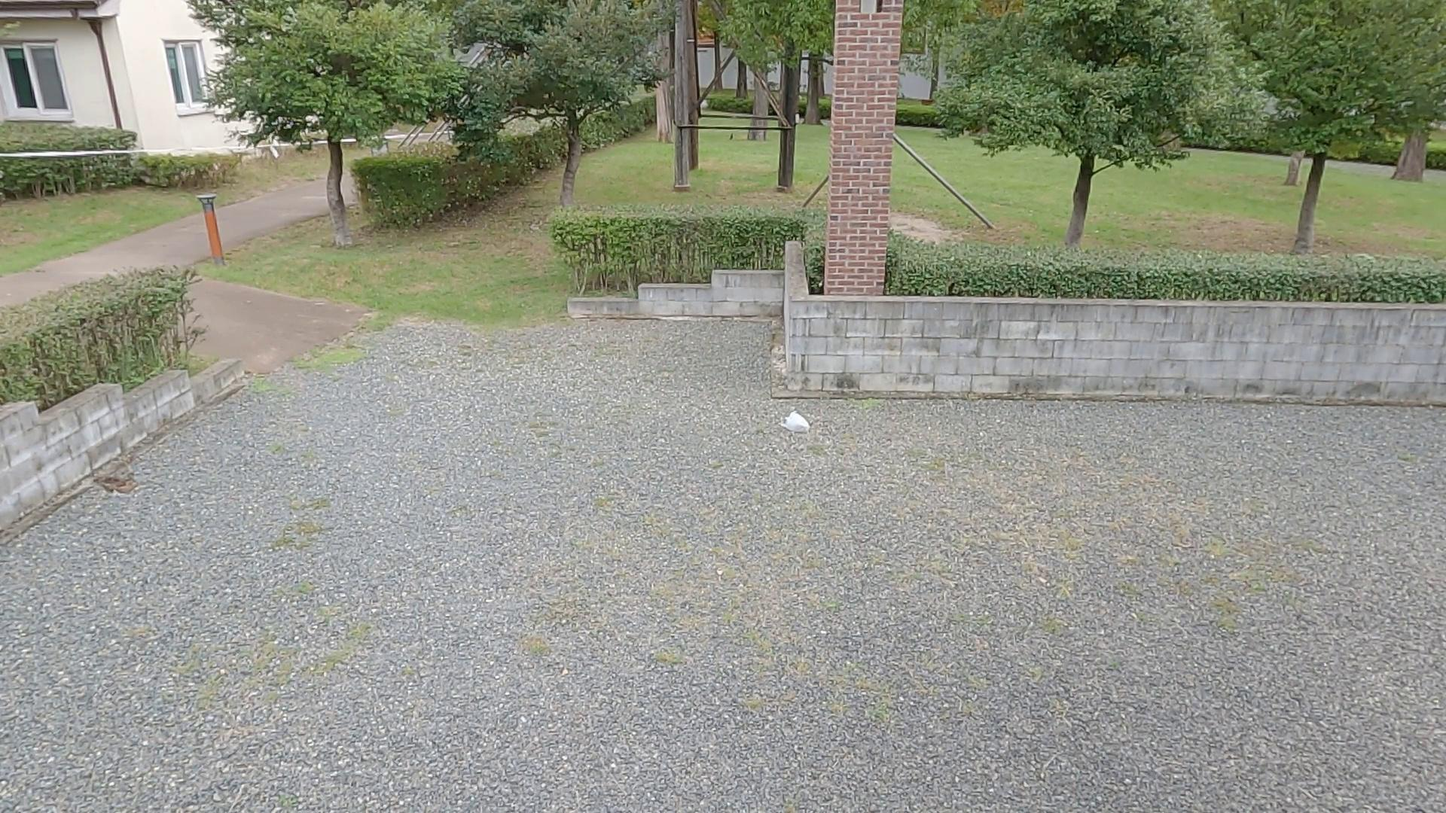trash: (777, 407, 820, 446)
